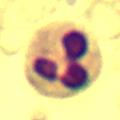neutrophil: (25, 23, 104, 98)
